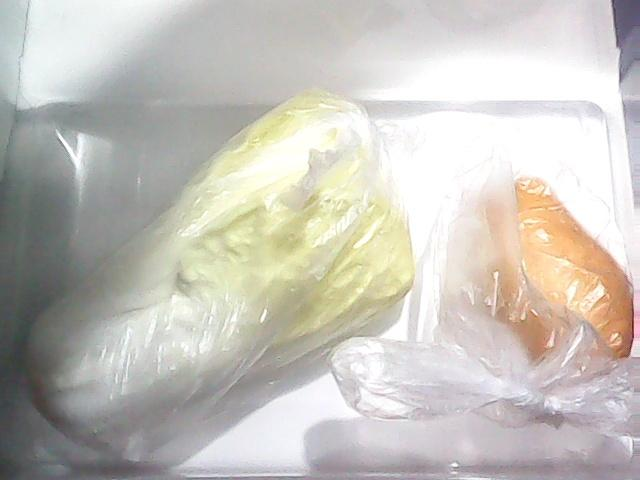mango: (440, 166, 634, 404)
napa cabbage: (19, 87, 414, 445)
